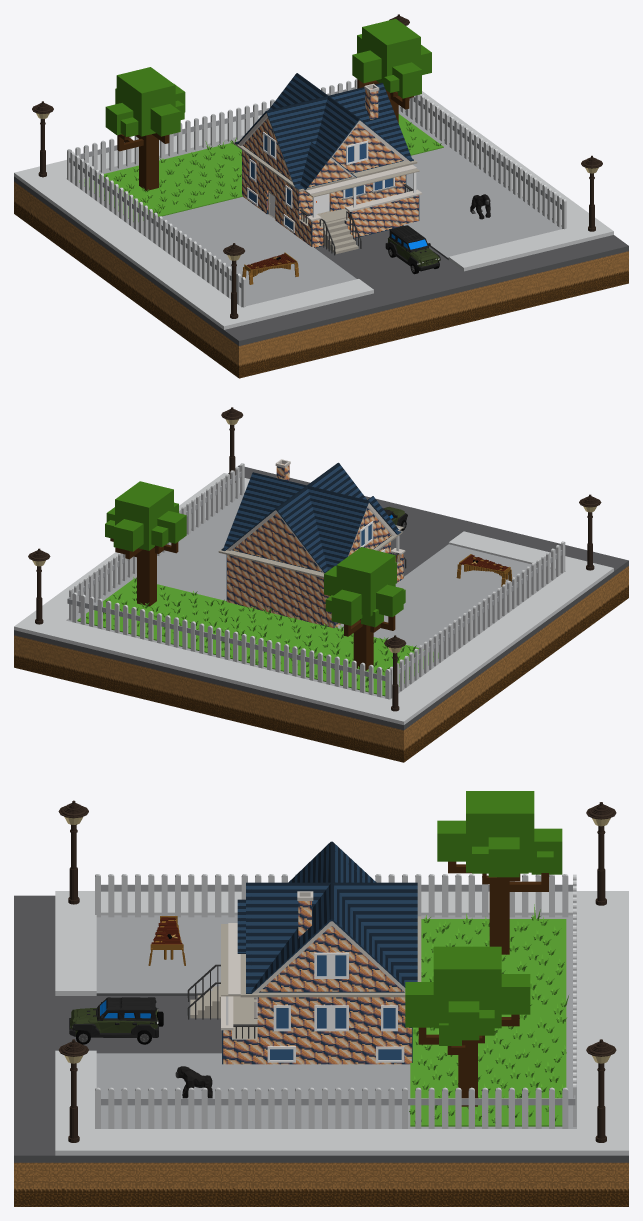
The picture shows the model from 3 angles, top to bottom: view 1: azimuth 30°, elevation 25°; view 2: azimuth 150°, elevation 25°; view 3: azimuth 270°, elevation 25°; orthographic projection. The views are drawn at different scales.
Parts seen in each view (by area): view 1: Cube.004, Cube.430, VEHICLES_JEEP, OBJRANDOM_MARIMBA; view 2: Cube.004, Cube.430, OBJRANDOM_MARIMBA; view 3: Cube.004, Cube.430, VEHICLES_JEEP, OBJRANDOM_MARIMBA, ANIMAL_GORILA.
Boxes of the visible parts, x1,y1,x2,y2 form: Cube.004: [14, 14, 628, 378]; Cube.430: [233, 73, 422, 255]; VEHICLES_JEEP: [385, 225, 440, 274]; OBJRANDOM_MARIMBA: [242, 252, 298, 284]; Cube.004: [14, 407, 628, 762]; Cube.430: [218, 459, 406, 627]; OBJRANDOM_MARIMBA: [456, 554, 512, 586]; Cube.004: [14, 791, 628, 1206]; Cube.430: [187, 841, 421, 1064]; VEHICLES_JEEP: [69, 997, 163, 1044]; OBJRANDOM_MARIMBA: [148, 916, 185, 965]; ANIMAL_GORILA: [175, 1066, 212, 1098].
Bounding box in the file's own units: 4000 × 1579 × 4000.
37 materials, 4 textured.
